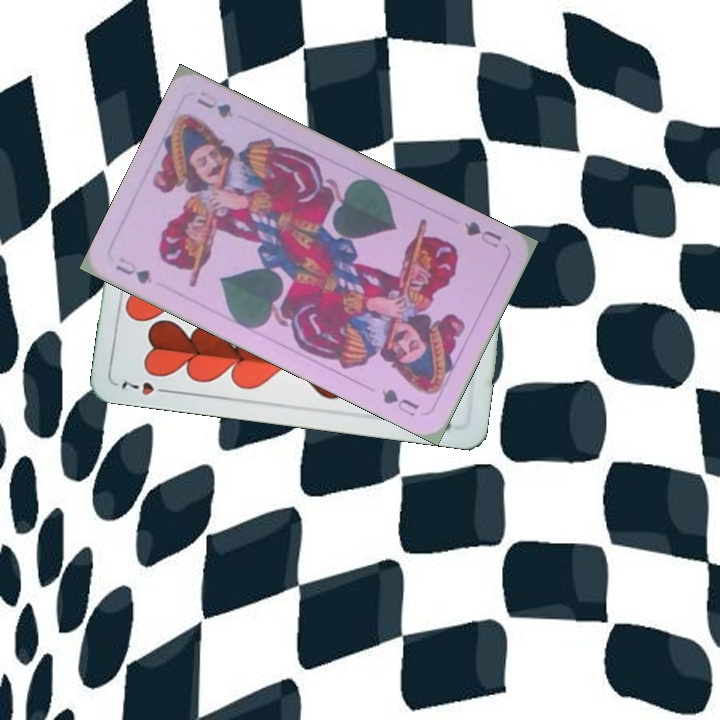GU: (460, 217, 505, 251), (111, 253, 155, 287)
H7: (117, 376, 173, 398)
